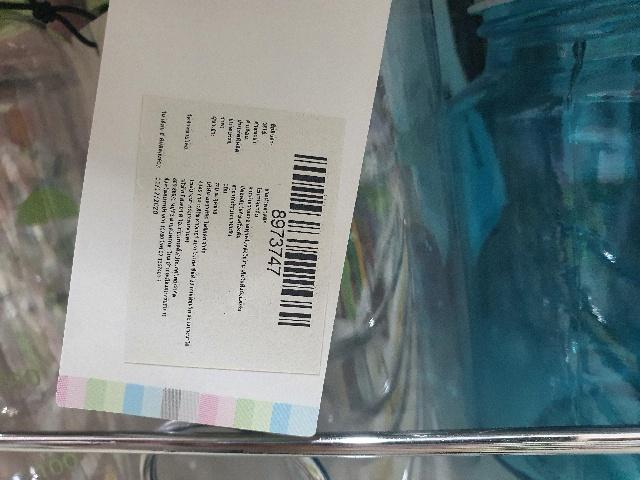Barcode: (268, 138, 340, 344)
